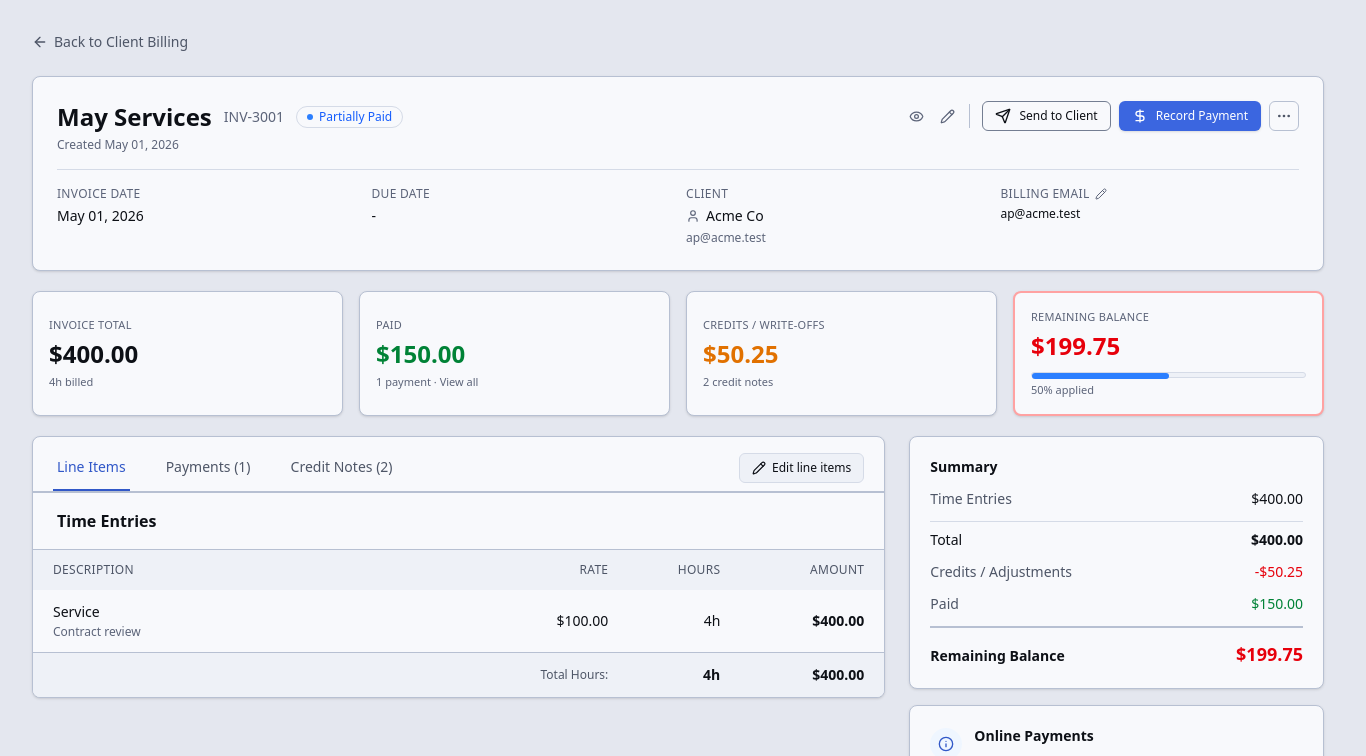
Test case: credit notes already on the invoice › shows a refused removal as a banner and keeps the credit note listed
Click the button "Credit Notes (2)". click: [342, 468]
box: left=287, top=445, right=397, bottom=491
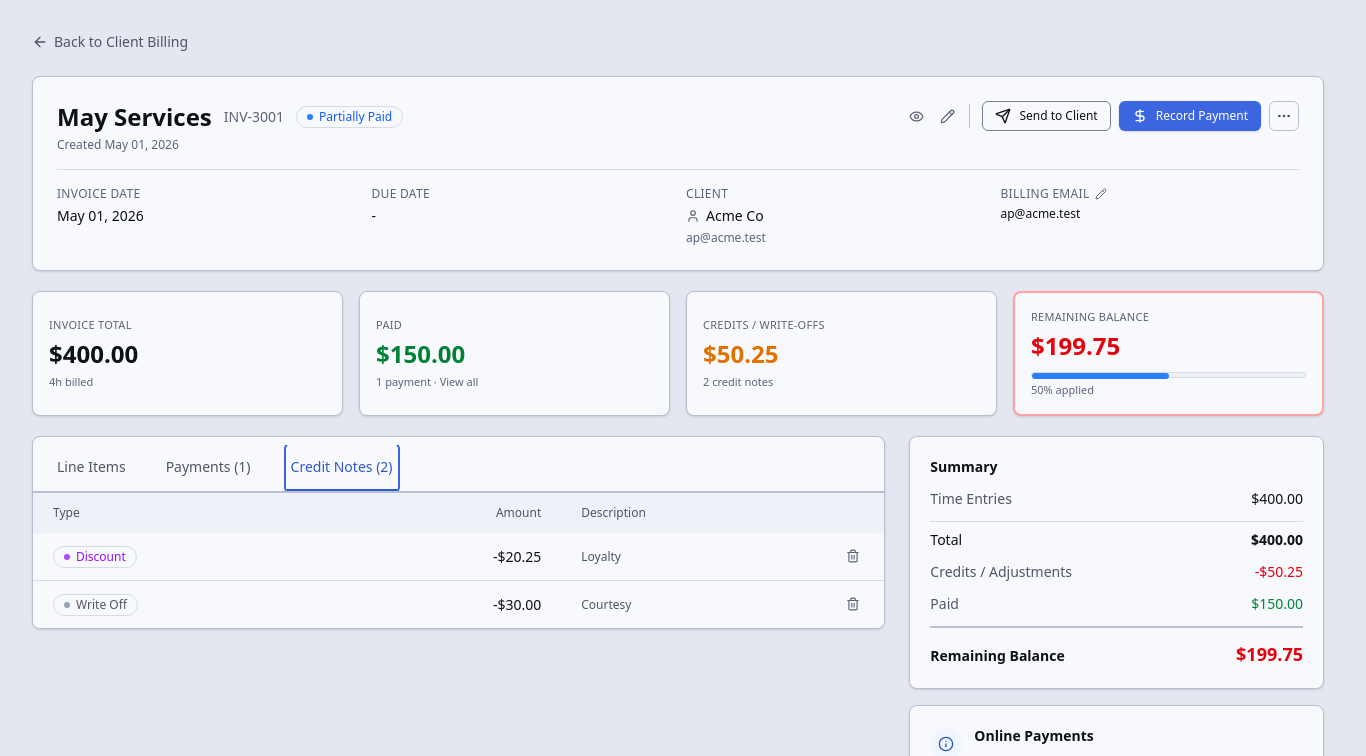
Click the button named "Remove credit note" in the row of "Write Off". click: [853, 604]
box: left=842, top=593, right=864, bottom=615
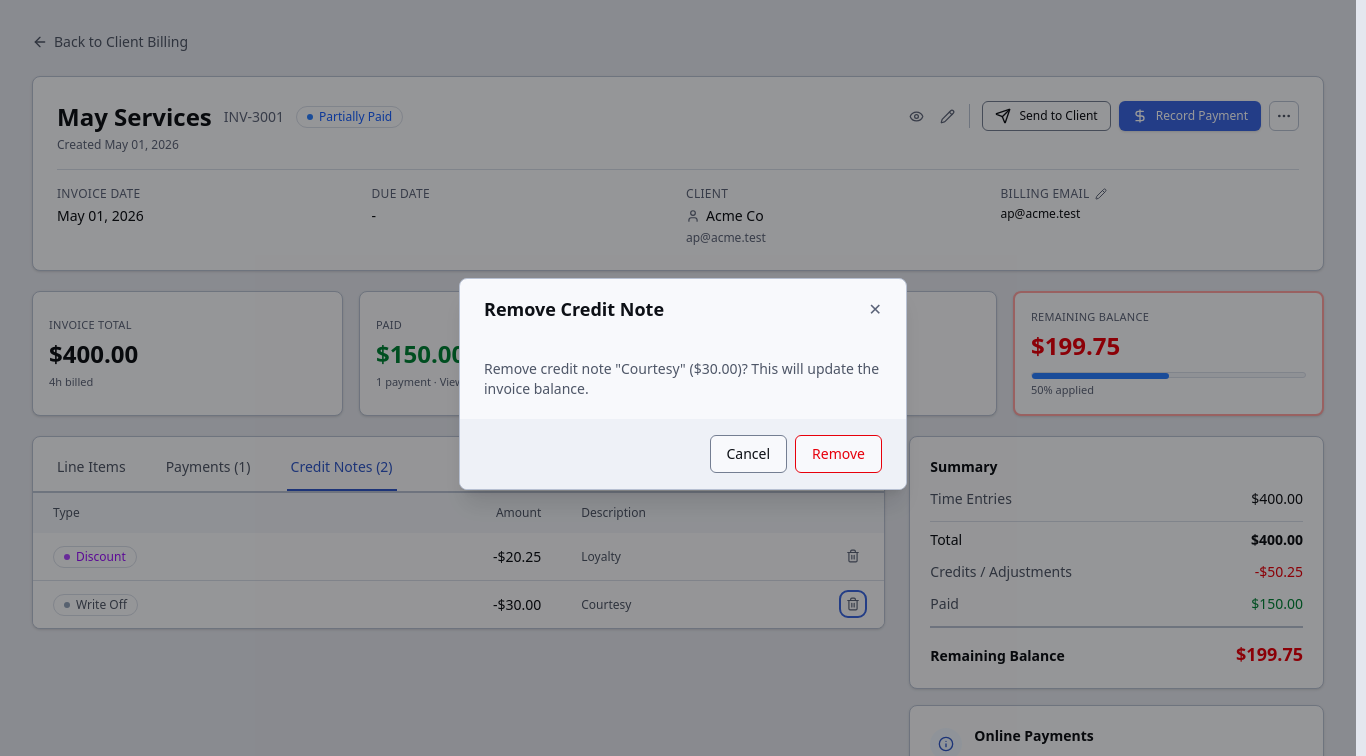
Click the button "Remove". click: [839, 454]
box: left=795, top=435, right=882, bottom=473
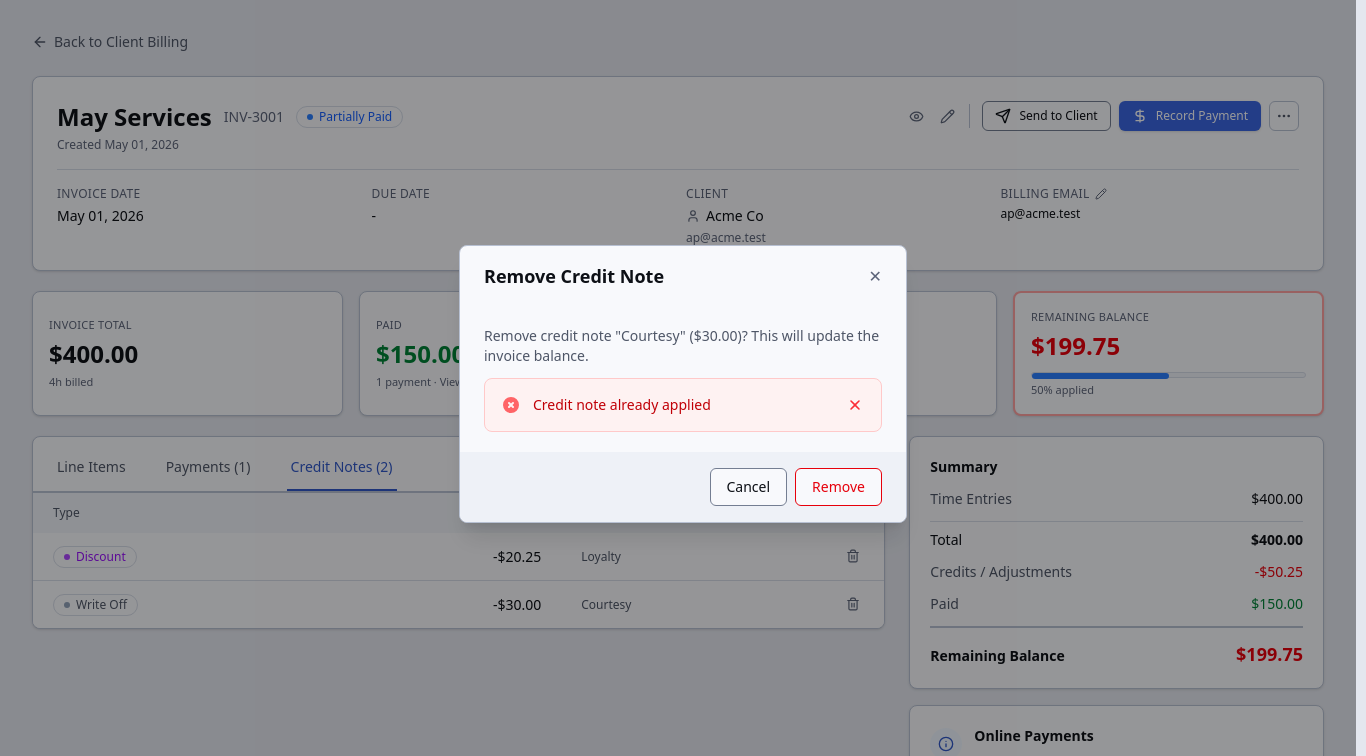
Check: the text "Courtesy" is shown, box left=561, top=580, right=820, bottom=628
Check: the text "Credit note already applied" is shown, box left=533, top=395, right=711, bottom=414
